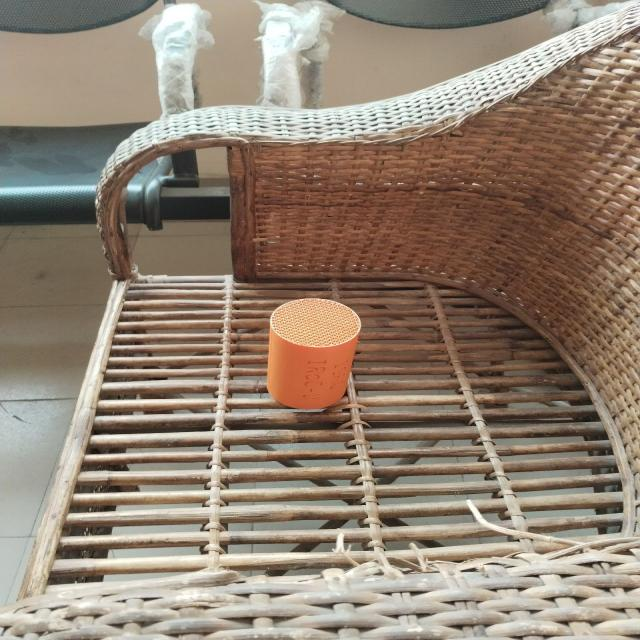Cylinder: (266, 296, 362, 411)
